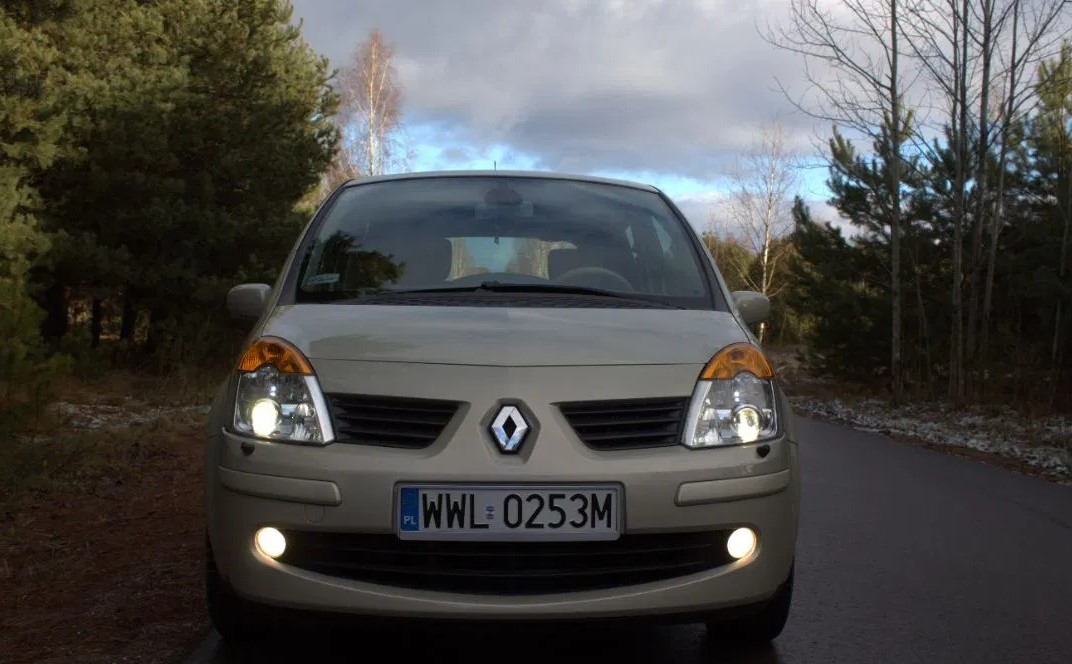number_plate: (385, 474, 634, 554)
